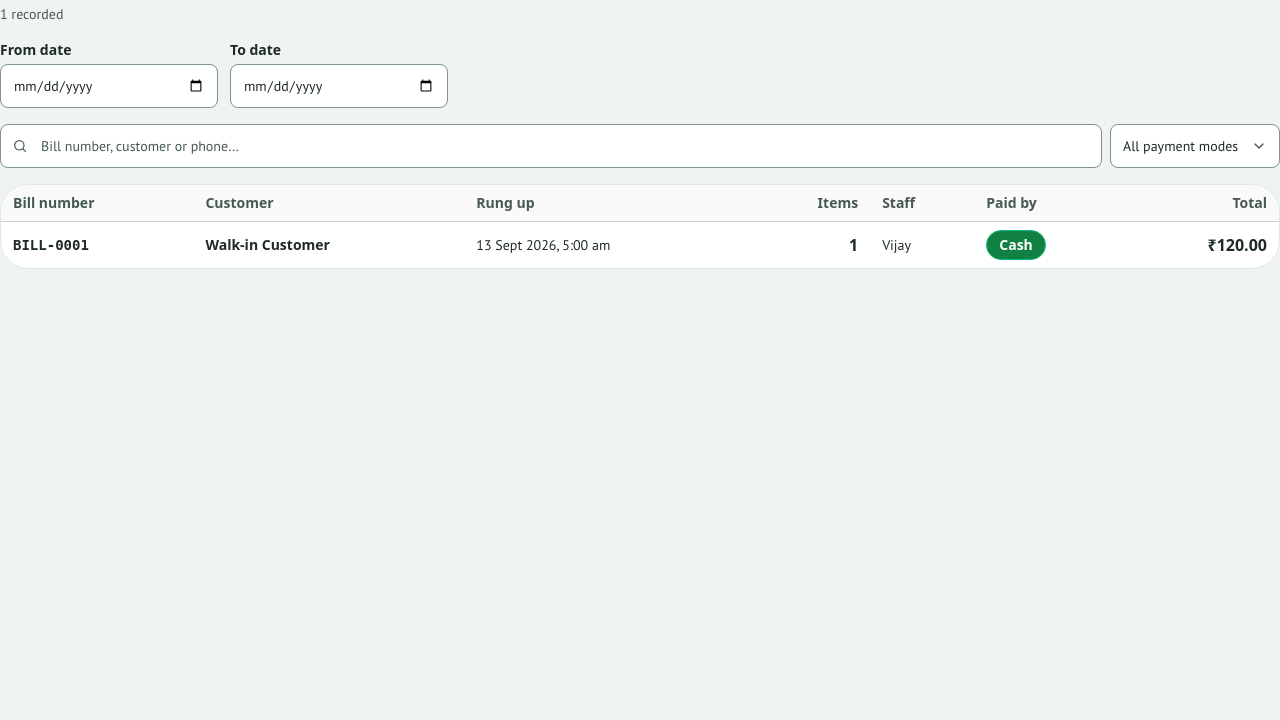
staff › sees neither delete control, and is pointed at customer returns
Click the text "BILL-0001" at {"x": 51, "y": 245}, box [13, 237, 89, 253]
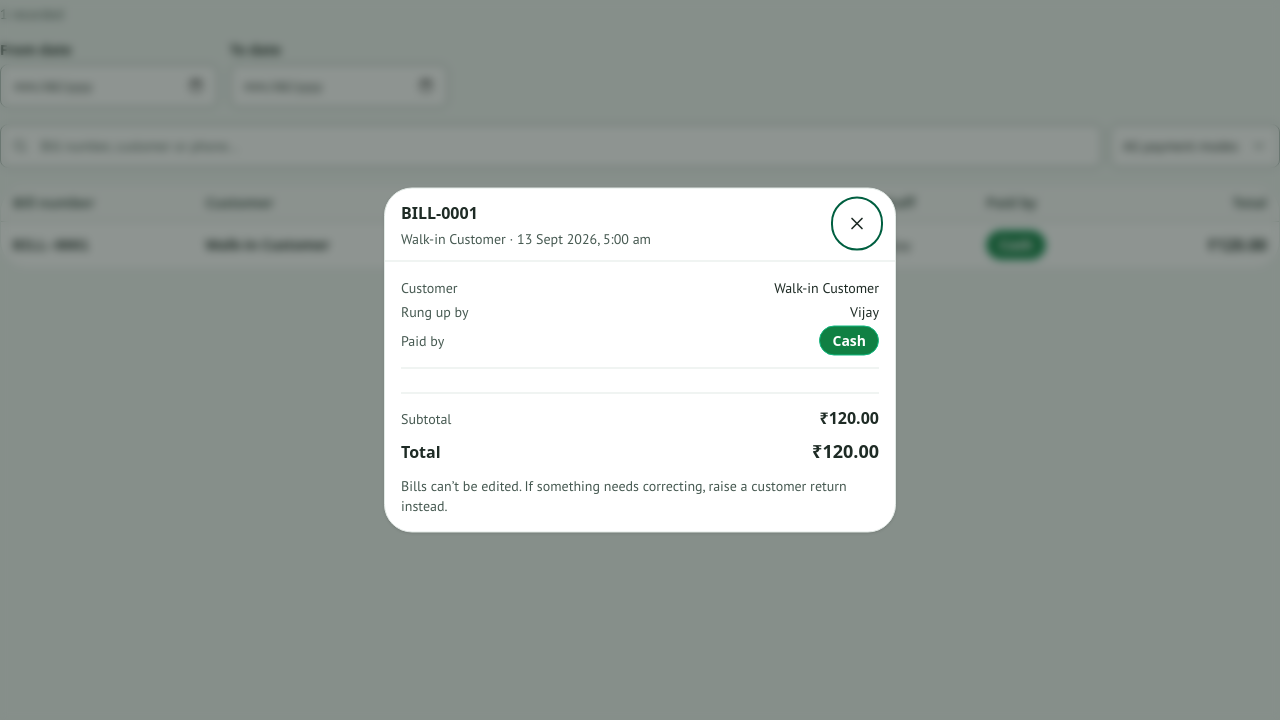
Expected: the text "raise a customer return instead" is shown, [401, 476, 847, 514]
